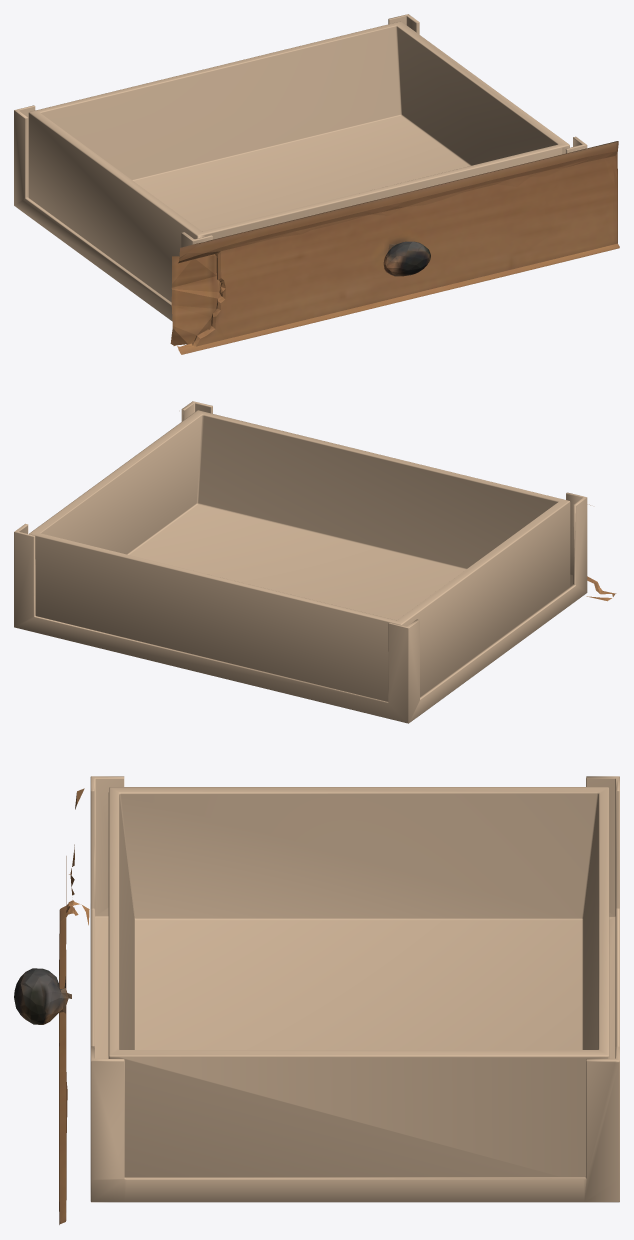
The model's file is drawer_top_right.glb.
3 views of the same model, one above another, from view 1: azimuth 30°, elevation 25°; view 2: azimuth 150°, elevation 25°; view 3: azimuth 270°, elevation 25° (orthographic). The views are drawn at different scales.
Parts seen in each view (by area): view 1: prefab_drawer_body_2, source_front_cap_0; view 2: prefab_drawer_body_2; view 3: prefab_drawer_body_2, source_front_cap_0.
Part boxes in pixels (x1,y1,x2,y2): prefab_drawer_body_2: (14,14,587,321); source_front_cap_0: (170,141,619,354); prefab_drawer_body_2: (14,401,587,723); prefab_drawer_body_2: (90,776,619,1202); source_front_cap_0: (14,788,89,1224).
Bounding box in the file's own units: 0.3933 × 0.0911 × 0.3181.
2 materials, 1 textured.
